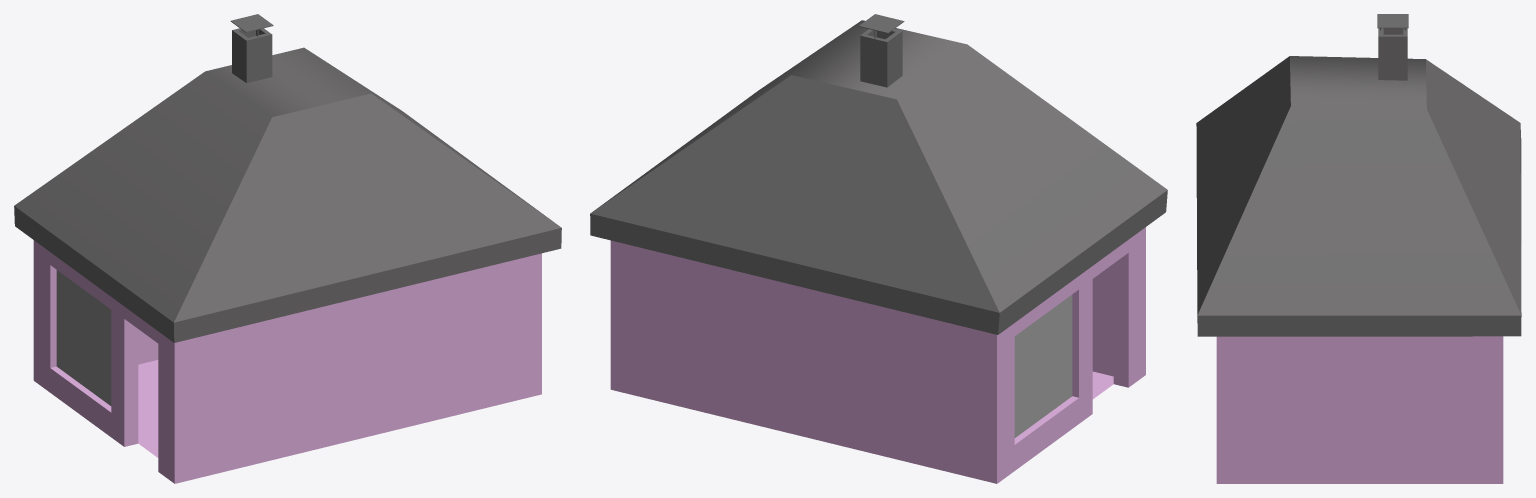
Rendered from baeckerladen.fbx.
3 renders of one model, left to right at view 1: azimuth 30°, elevation 25°; view 2: azimuth 150°, elevation 25°; view 3: azimuth 270°, elevation 25°, orthographic. The views are drawn at different scales.
Parts seen in each view (by area): view 1: roof, house, window2, kamin; view 2: roof, house, window2, kamin; view 3: roof, house, kamin, kaminOben.
Part boxes in pixels (x1,y1,x2,y2): roof: (14,47,561,342); house: (33,240,541,483); window2: (56,270,111,405); kamin: (232,28,272,82); roof: (590,20,1167,334); house: (610,227,1145,483); window2: (1014,294,1072,437); kamin: (860,29,902,87); roof: (1196,56,1521,336); house: (1216,336,1503,483); kamin: (1378,28,1407,80); kaminOben: (1377,14,1408,28).
Bounding box in the file's own units: 6.35 × 5.58 × 4.53.
